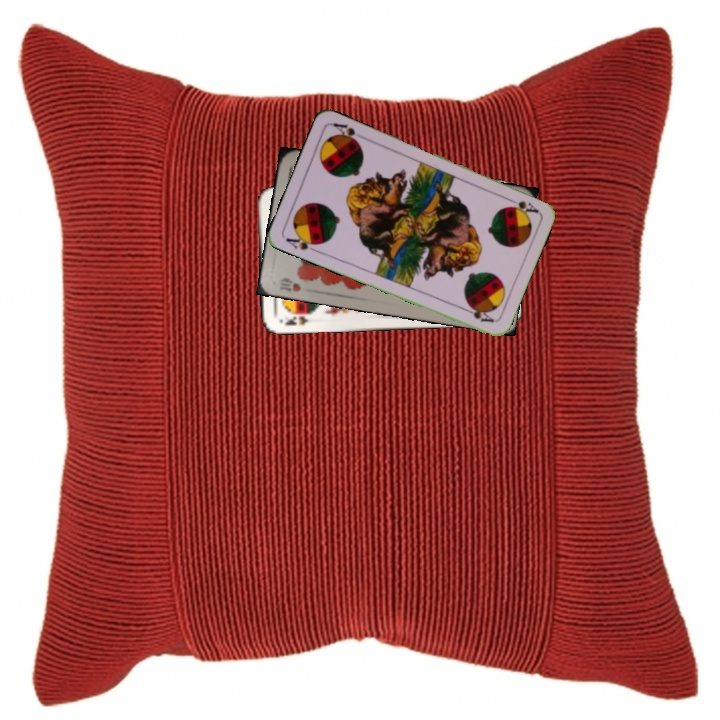H10: (275, 273, 303, 294)
SA: (282, 230, 323, 255), (502, 193, 541, 216)
SK: (276, 309, 315, 328)
